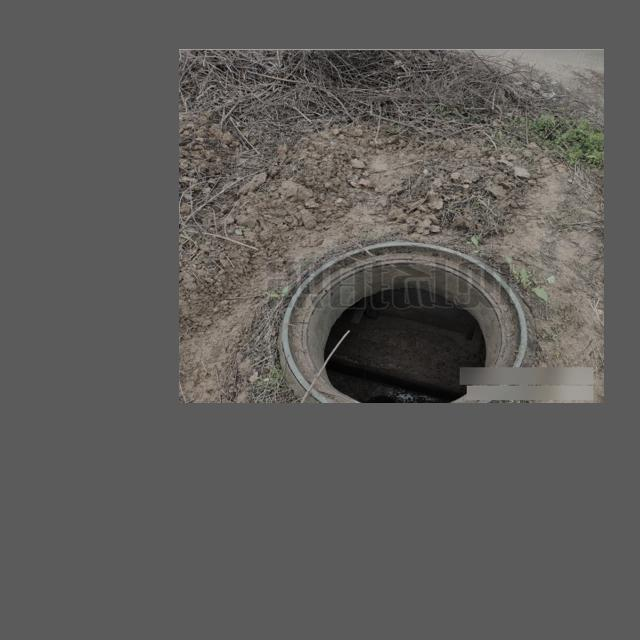lose: (277, 237, 539, 403)
